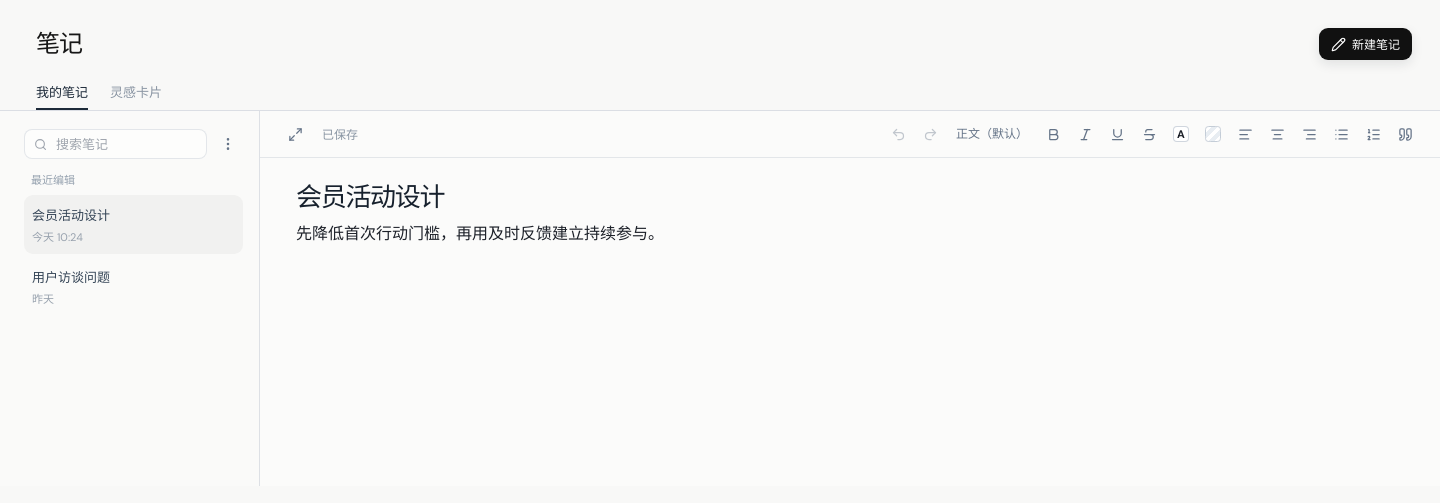
Test: NotesWorkspace › enters selection mode from organize and carries visible-list order into a note with materials
This screenshot has width=1440, height=503.
Click the tab "灵感卡片". click: [136, 92]
box: [110,74,162,110]
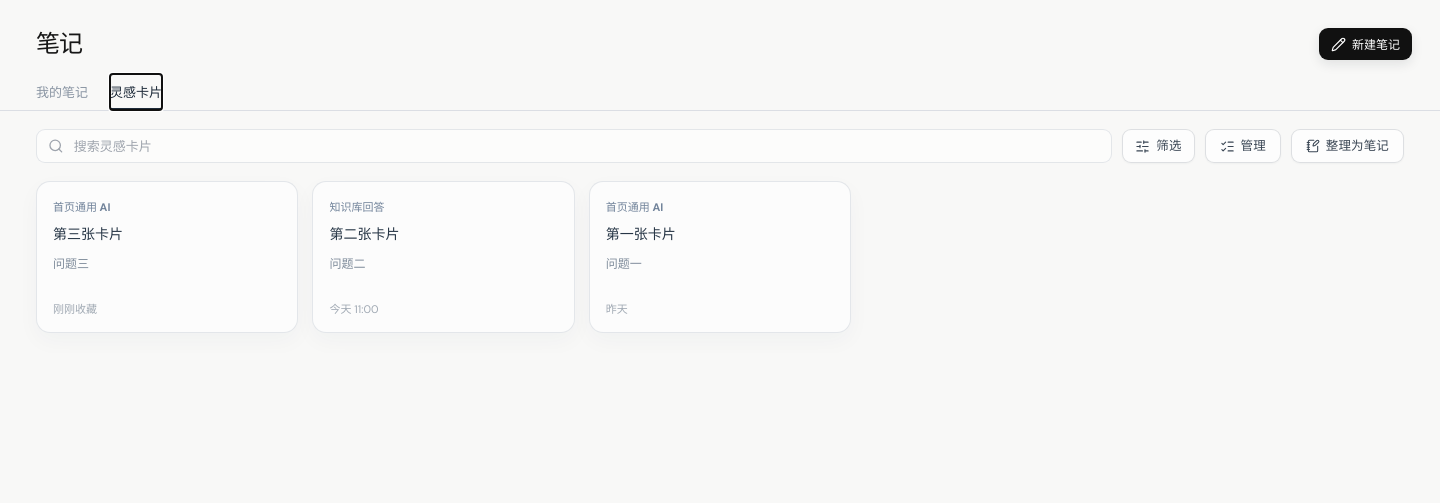
Click the button "整理为笔记". click: [1347, 146]
box: [1291,129,1404,163]
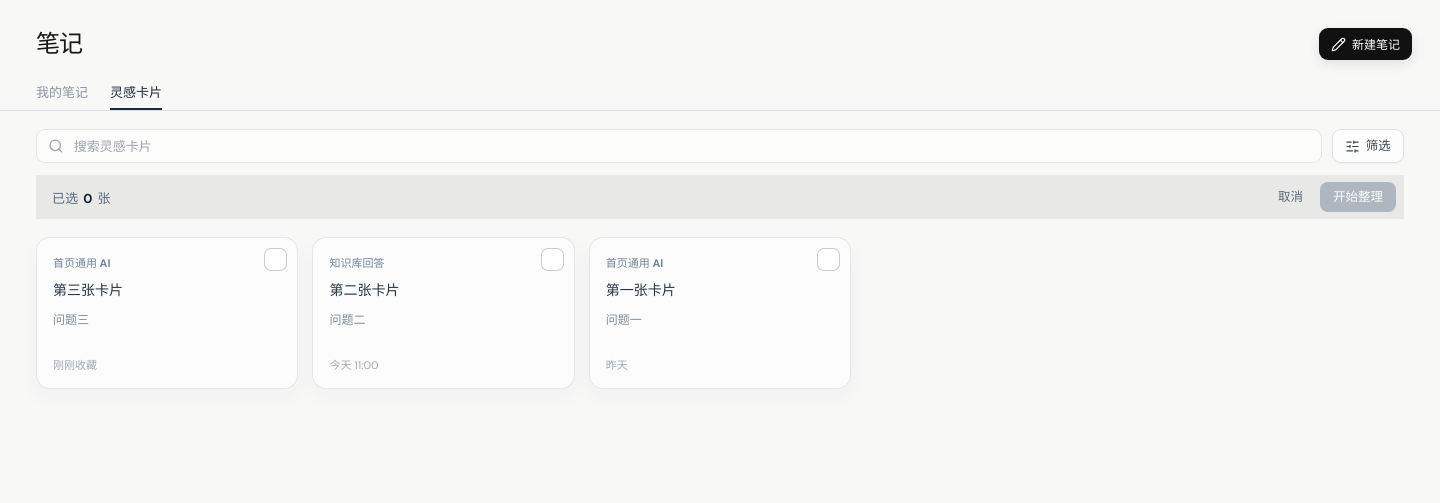
Click the button named "选择卡片：c3". click: [276, 260]
box: [264,248,287,271]
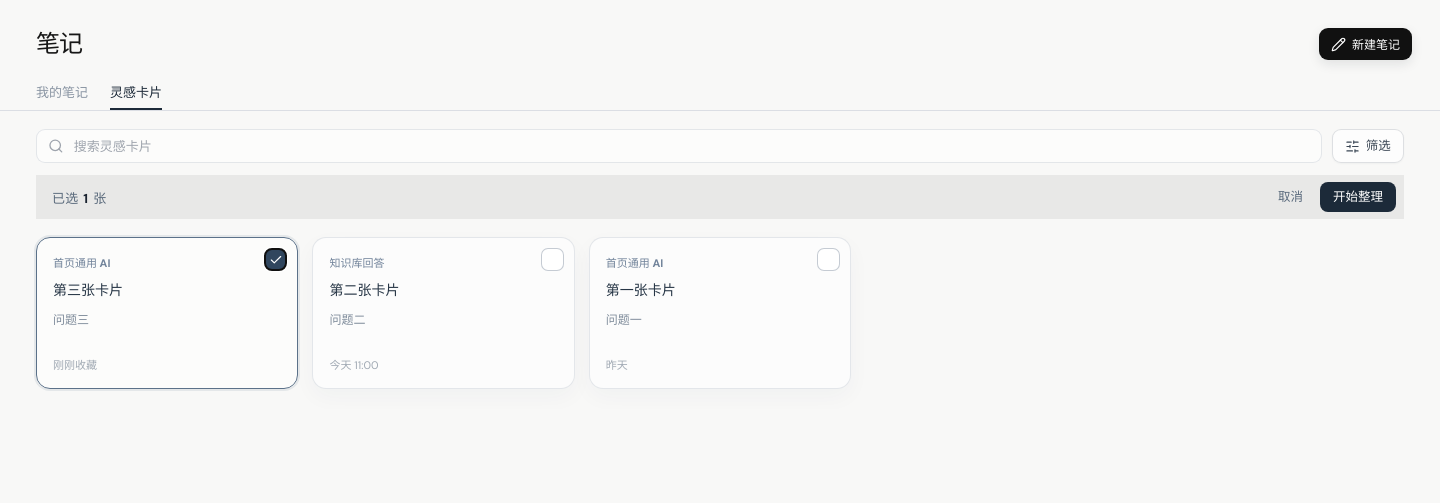
Click the button named "选择卡片：c1". click: [829, 260]
box: [817,248,840,271]
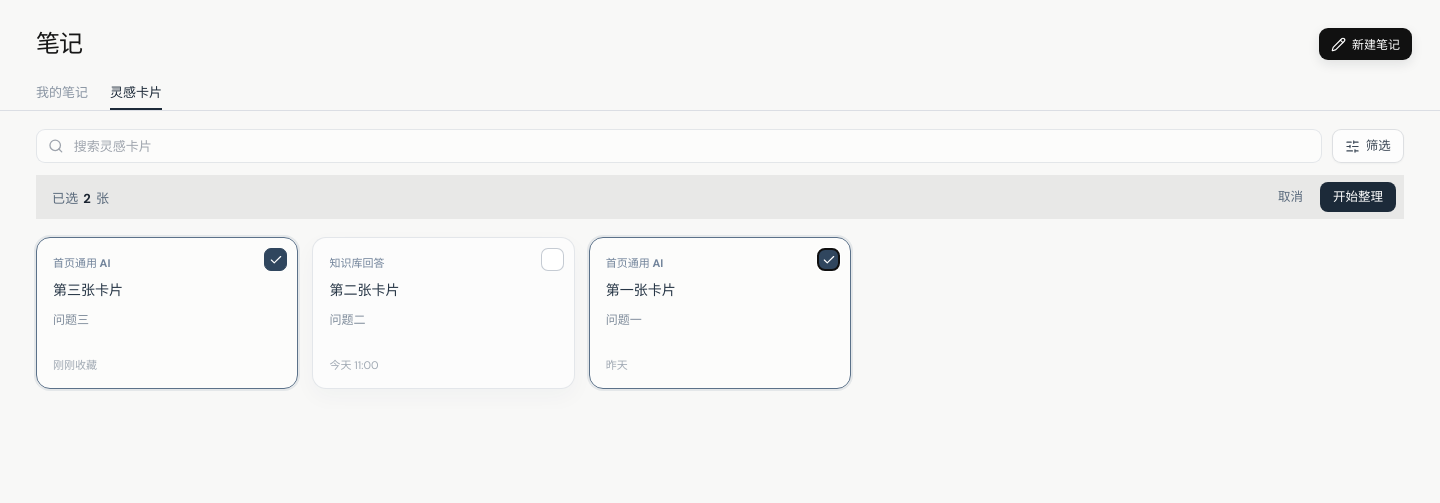
Click the button "开始整理". click: [1358, 197]
box: [1320,182,1396,212]
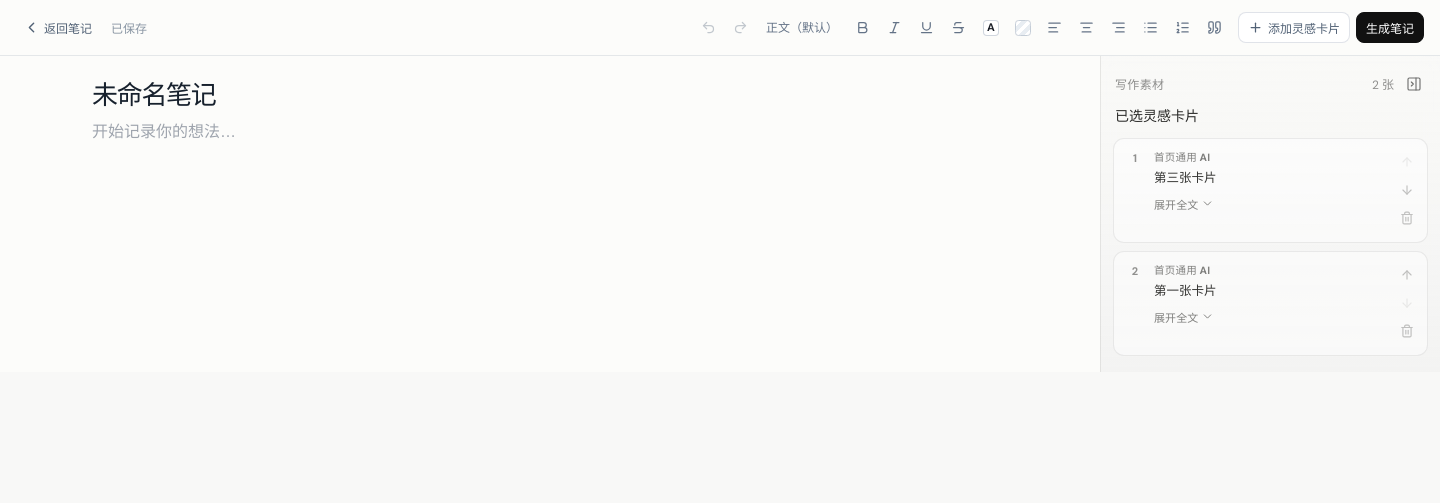
Result: the button "返回笔记" is shown at [16,14,99,42]
Result: the element named "素材面板" is shown at [1100,56,1439,372]
Result: the button "生成笔记" is shown at [1356,12,1424,43]
